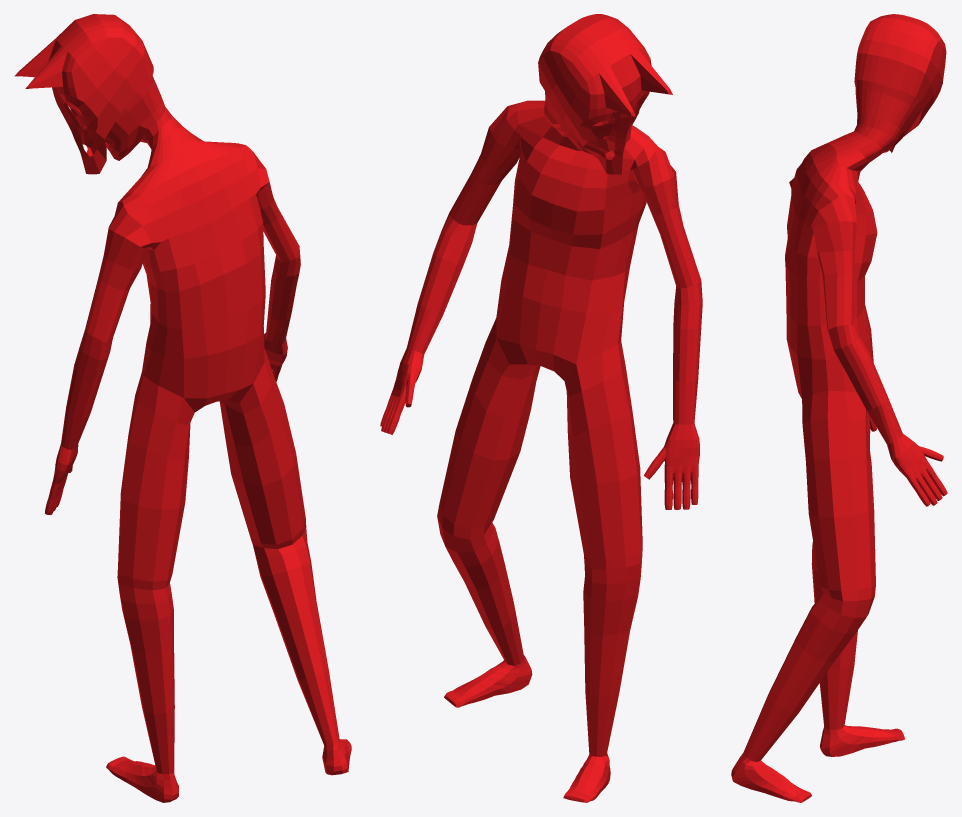
File: reposoE_000249.obj
3 views of the same model, side by side, from view 1: azimuth 30°, elevation 25°; view 2: azimuth 150°, elevation 25°; view 3: azimuth 270°, elevation 25° (orthographic). The views are drawn at different scales.
Visible parts, largest first — view 1: Plane.002_Plane.001; view 2: Plane.002_Plane.001; view 3: Plane.002_Plane.001.
Part boxes in pixels (left/top/right/bottom): Plane.002_Plane.001: left=14, top=14, right=351, bottom=802; Plane.002_Plane.001: left=380, top=14, right=702, bottom=802; Plane.002_Plane.001: left=731, top=14, right=947, bottom=802.
Bounding box in the file's own units: 2.61 × 6.96 × 1.9.
